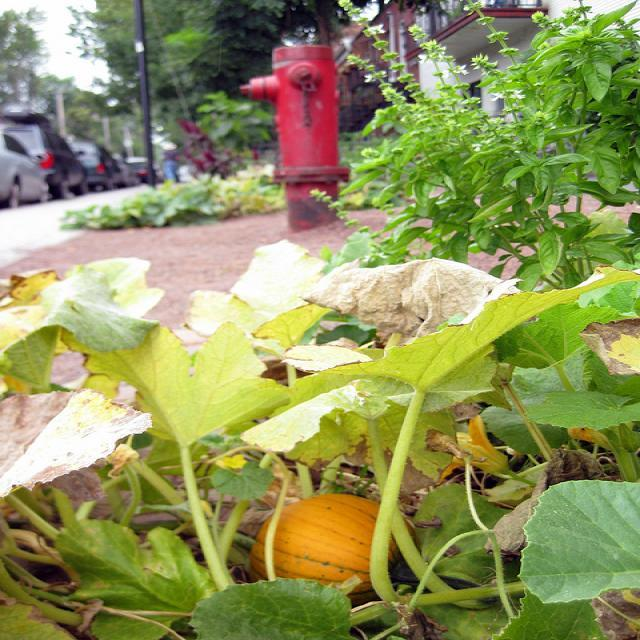fire_hydrant: (236, 40, 352, 231)
